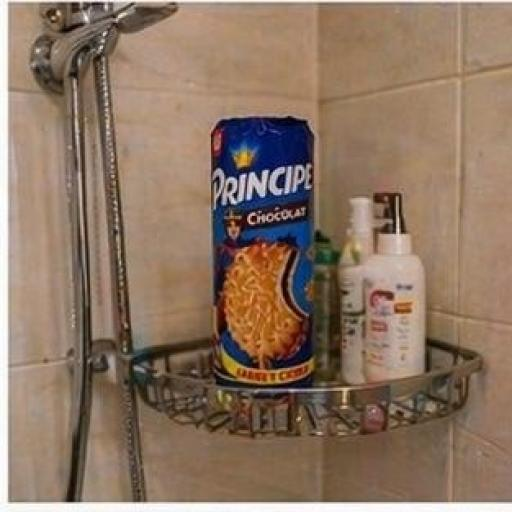prince: (125, 76, 418, 474)
